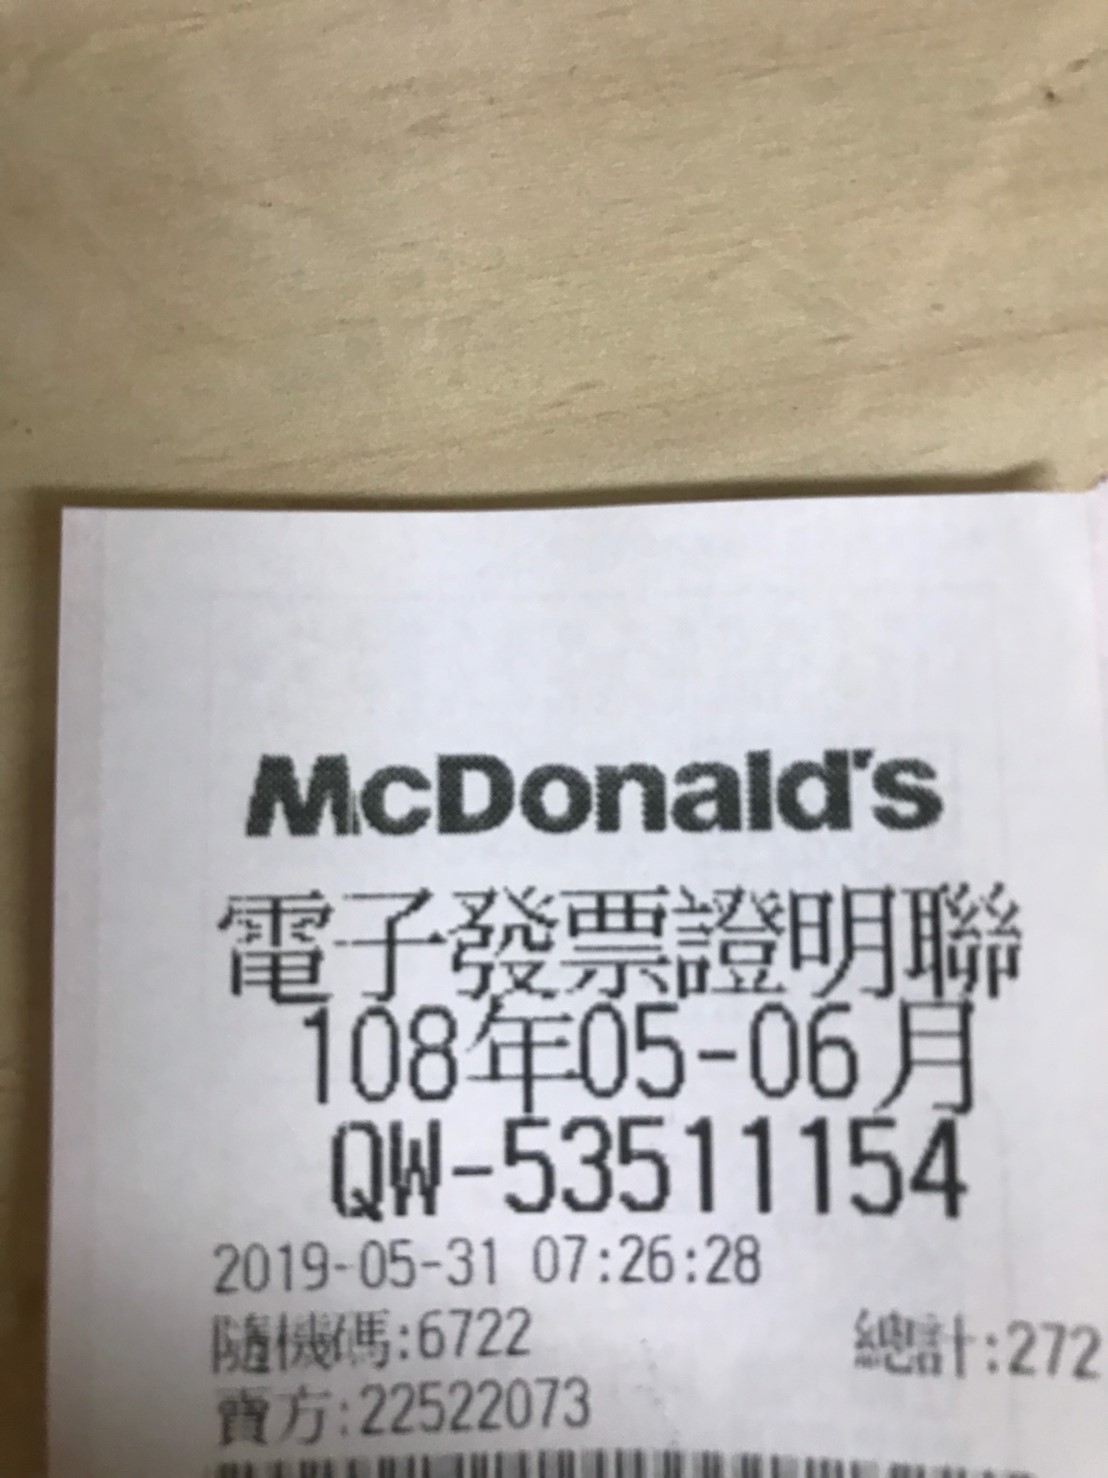Date_New: (300, 992, 980, 1115)
Number_New: (504, 1108, 974, 1225)
